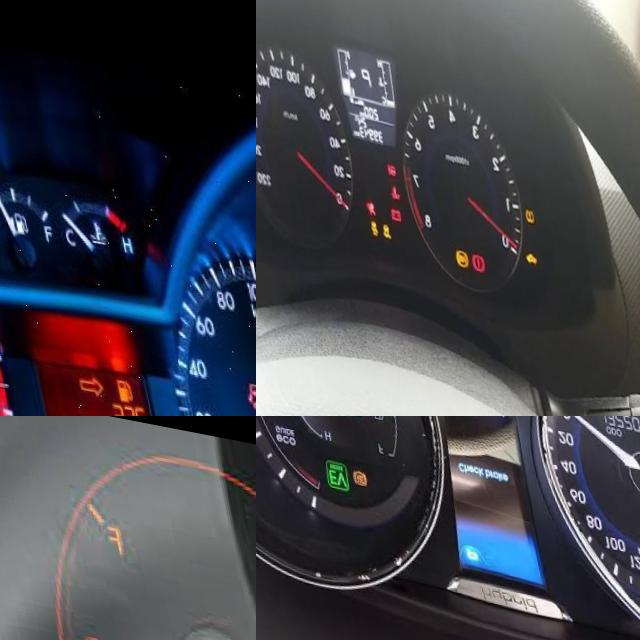Electronic Power Steering: (376, 151, 388, 165)
High Engine Coolant Temperature: (379, 173, 390, 188)
